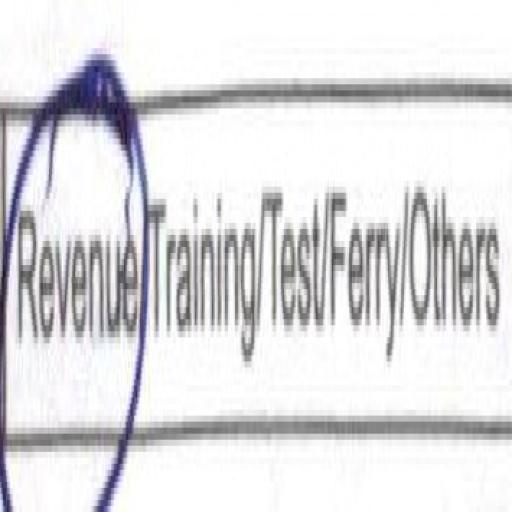check: (0, 54, 141, 512)
